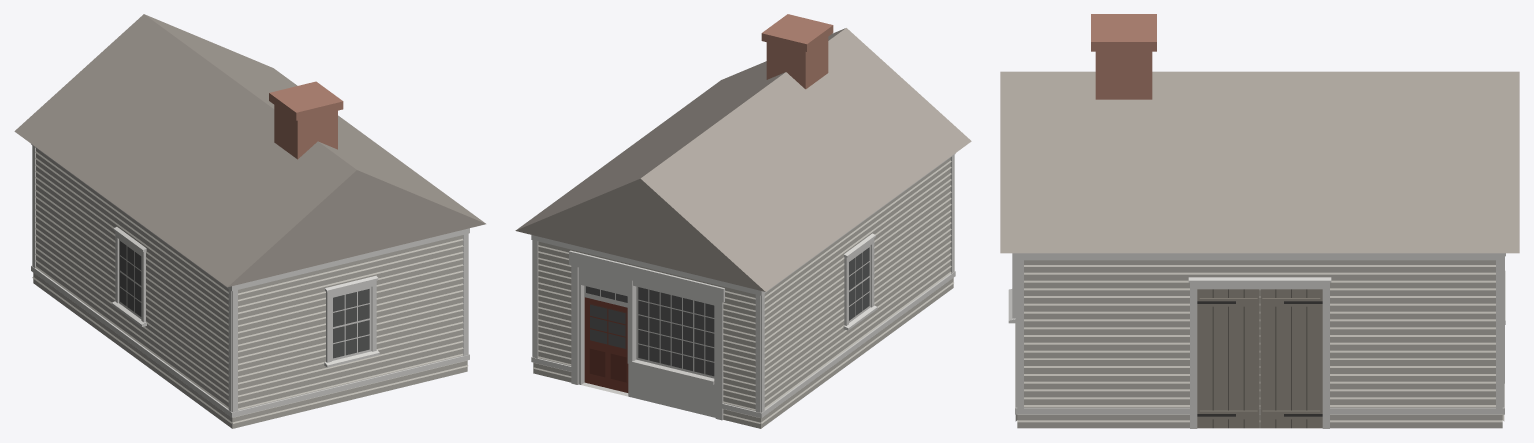
File: recon_1835_core_c1_051__inferred_1835.glb
3 views of the same model, side by side, from view 1: azimuth 30°, elevation 25°; view 2: azimuth 150°, elevation 25°; view 3: azimuth 270°, elevation 25° (orthographic). The views are drawn at different scales.
Visible parts, largest first — view 1: recon_1835_core_c1_051__inferred_1835; view 2: recon_1835_core_c1_051__inferred_1835; view 3: recon_1835_core_c1_051__inferred_1835.
Part boxes in pixels (bbox=[...]): recon_1835_core_c1_051__inferred_1835: bbox=[14, 14, 485, 428]; recon_1835_core_c1_051__inferred_1835: bbox=[515, 14, 971, 428]; recon_1835_core_c1_051__inferred_1835: bbox=[1000, 14, 1519, 428].
Size of the model in its own units: 5.4 by 5.39 by 7.68.
